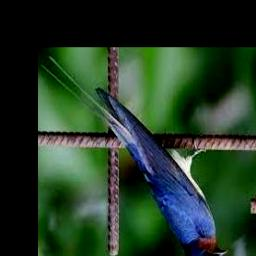Swallow: (41, 56, 227, 256)
